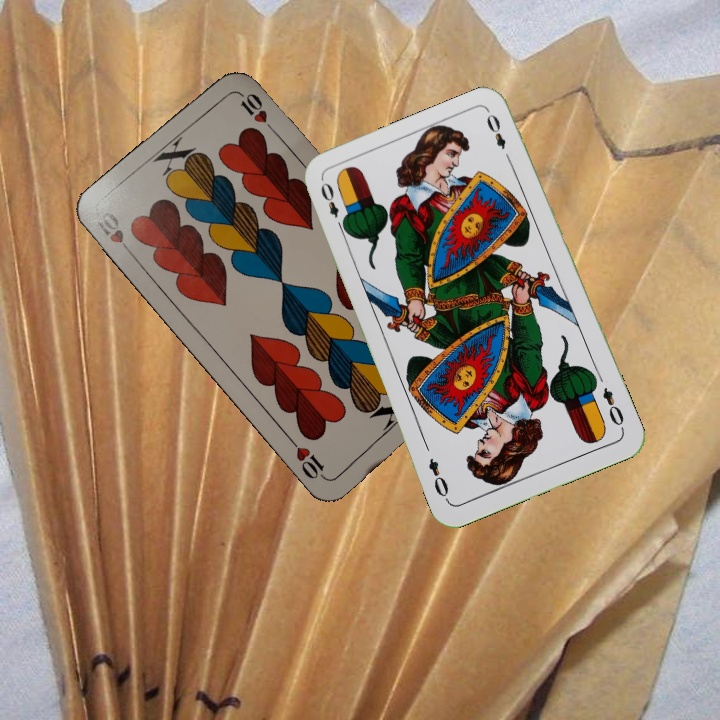EO: (316, 178, 348, 234), (598, 383, 627, 433)
H10: (91, 206, 137, 260)
